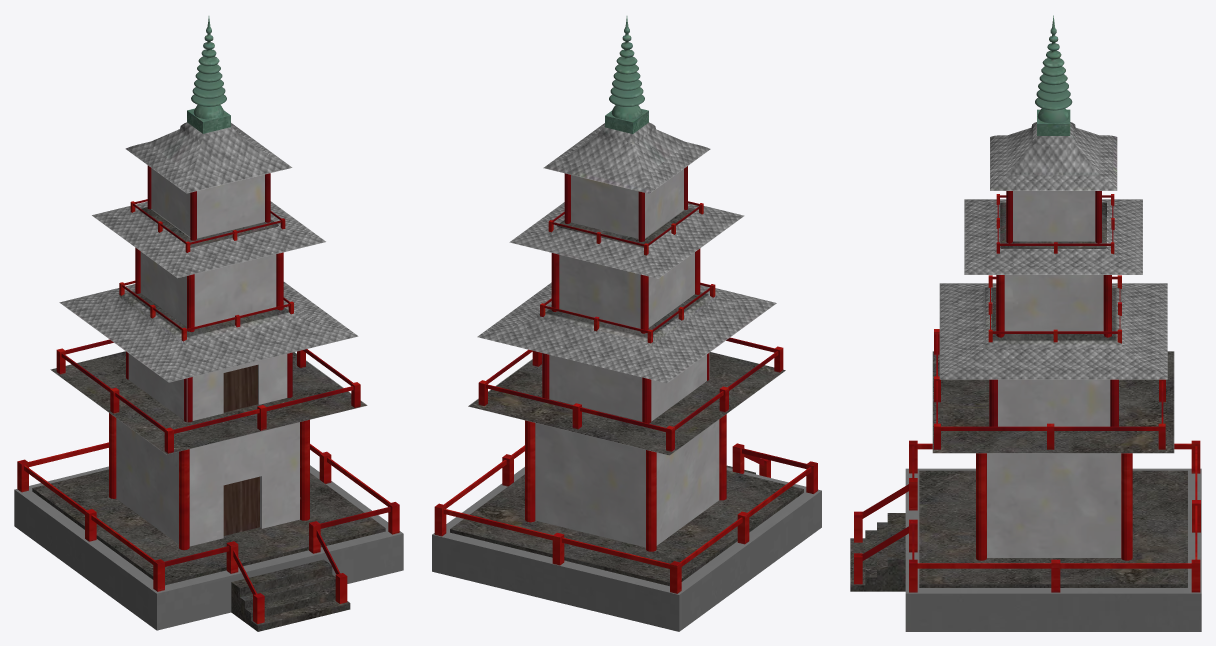
File: sensoji.glb
3 views of the same model, side by side, from view 1: azimuth 30°, elevation 25°; view 2: azimuth 150°, elevation 25°; view 3: azimuth 270°, elevation 25° (orthographic). The views are drawn at different scales.
Visible parts, largest first — view 1: defaultMaterial; view 2: defaultMaterial; view 3: defaultMaterial.
Boxes of the visible parts, x1,y1,x2,y2 form: defaultMaterial: (14,16,403,631); defaultMaterial: (432,16,821,631); defaultMaterial: (850,15,1201,631).
Bounding box in the file's own units: 0.9227 × 1.91 × 1.09.
1 material, 1 textured.
